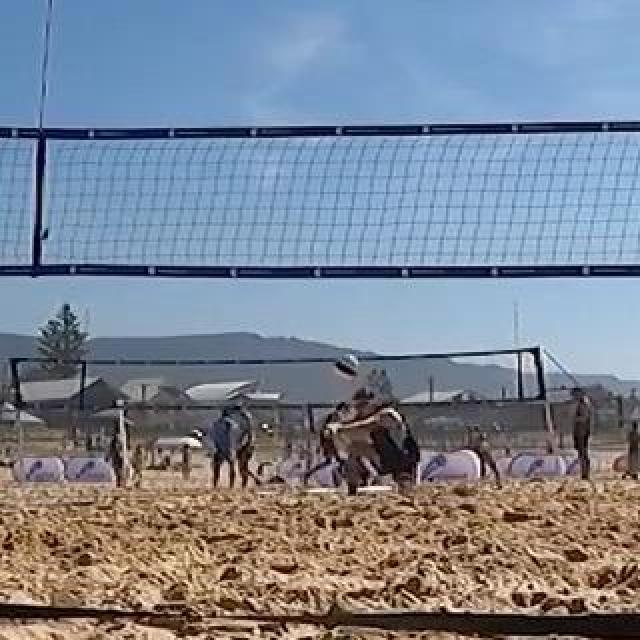volleyball: (336, 354, 358, 376)
